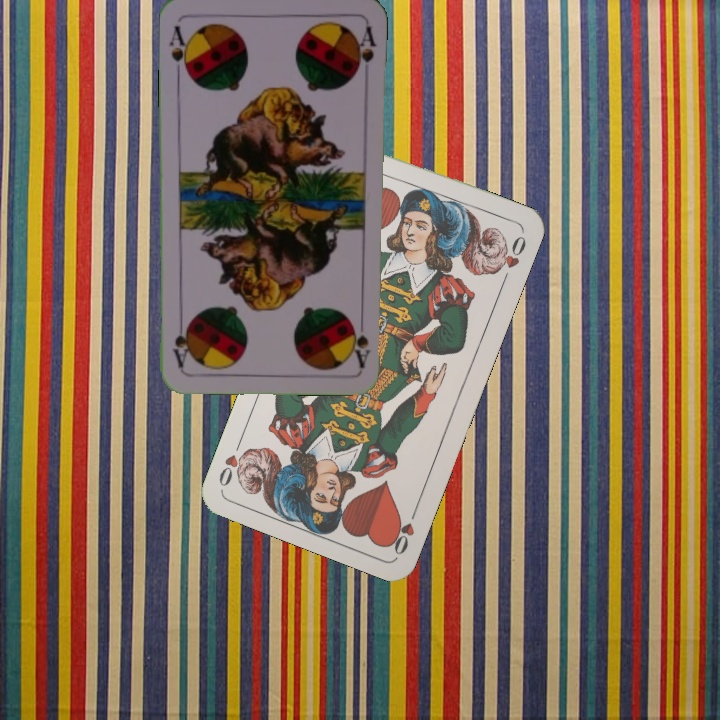HO: (385, 501, 421, 558)
SA: (166, 22, 193, 78), (349, 319, 373, 369)
